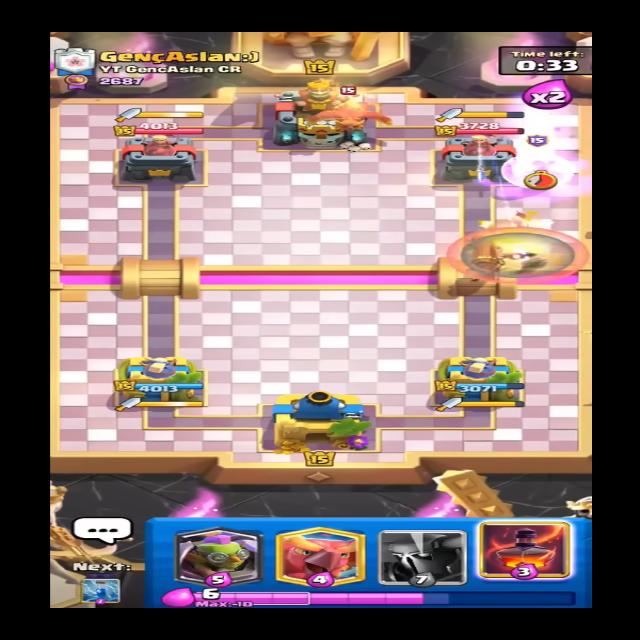evo-wizard: (497, 142, 578, 190)
phoenix: (306, 86, 403, 134)
